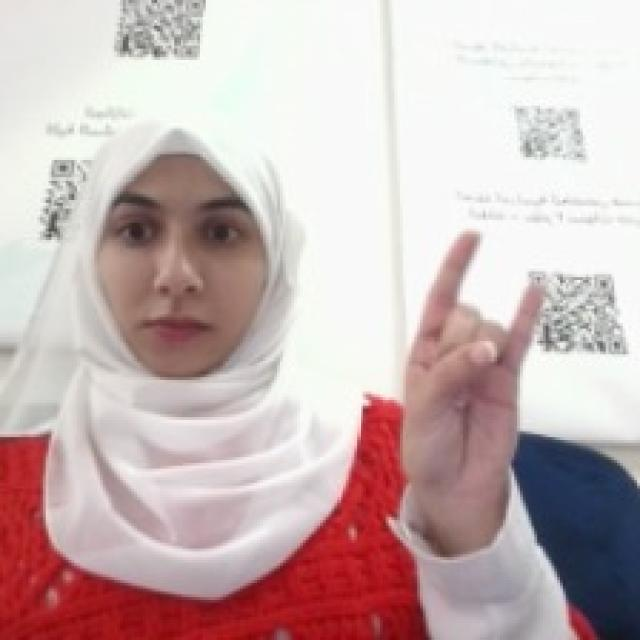No: (392, 221, 554, 501)
